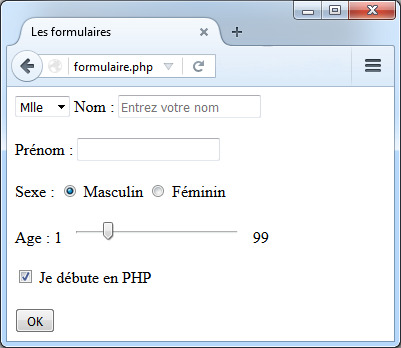_form_: (1, 1, 401, 348)
button: (15, 309, 56, 332)
checkbox: (17, 269, 33, 285)
checkbox_with_label: (15, 267, 153, 286)
field: (117, 94, 263, 119), (76, 137, 221, 162), (14, 95, 71, 118)
field_with_label: (15, 136, 223, 163), (74, 93, 265, 120)
radio: (61, 183, 77, 198), (151, 183, 165, 198)
radio_with_label: (59, 181, 142, 199), (149, 182, 226, 199)
